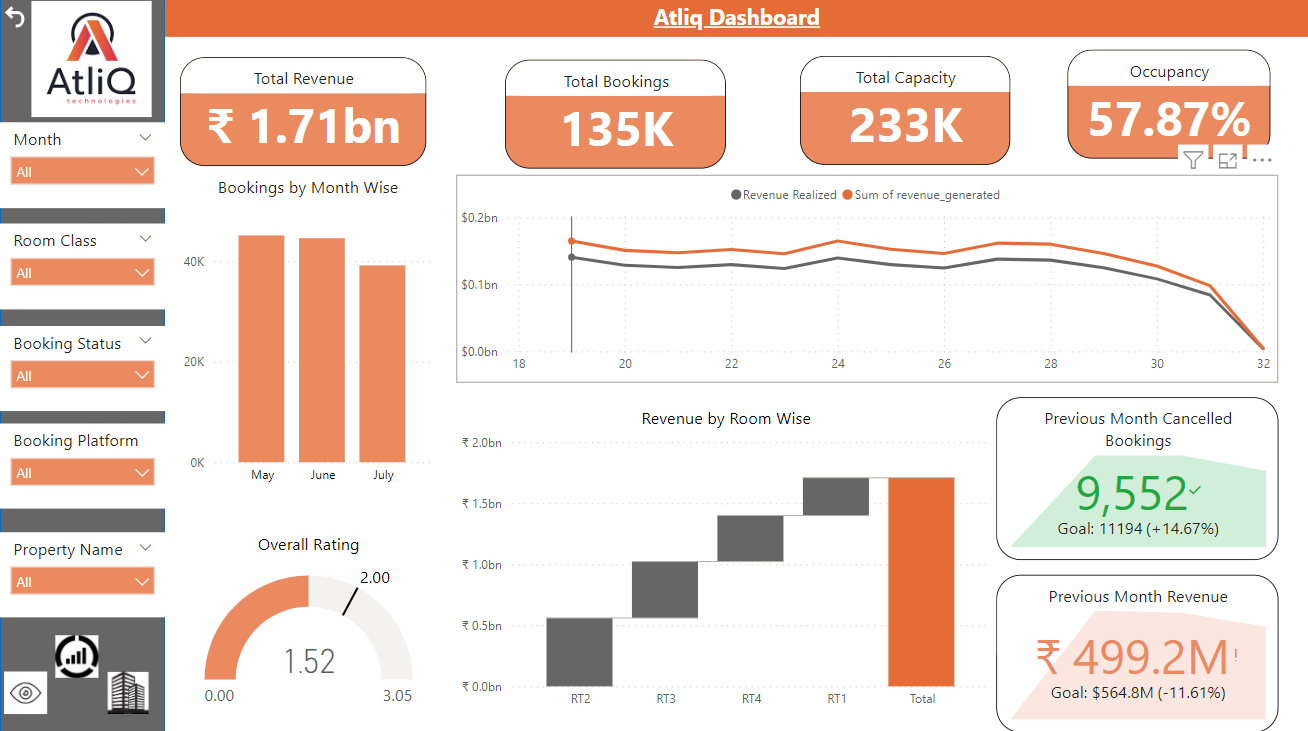

Layout of this report page (visuals, bound fields, positions):
{"tool":"powerbi","page":{"name":"Main Dashboard","canvas":[1280,720],"ordinal":0},"visuals":[{"type":"shape","box":[0,0,161.2,720],"z":0},{"type":"card","title":"Total Revenue","fields":{"Values":["Measures (2).Revenue"]},"box":[176,59.9,240.8,106.3],"z":1000},{"type":"card","title":"Total Bookings","fields":{"Values":["Measures (2).Total Bookings"]},"box":[493.9,62.3,216.4,106.3],"z":2000},{"type":"card","title":"Total Capacity","fields":{"Values":["Measures (2).Total Capacity"]},"box":[782.3,58.7,205.4,106.3],"z":3000},{"type":"card","title":"Occupancy","fields":{"Values":["Measures (2).Occupancy %"]},"box":[1043.9,52.6,198,106.3],"z":4000},{"type":"gauge","title":"Overall Rating","fields":{"Y":["Measures (2).Average Rating"]},"box":[176,524.4,251.8,180.9],"z":5000},{"type":"slicer","fields":{"Values":["dim_date.date.Variation.Date Hierarchy.Month"]},"box":[0,123.8,161.2,83.8],"z":6000},{"type":"kpi","title":"Previous Month Revenue","fields":{"TrendLine":["dim_date.date.Variation.Date Hierarchy.Month"],"Indicator":["Measures (2).Revenue"],"Goal":["Measures (2).RevPremon"]},"box":[974.3,566,276.3,154],"z":7000},{"type":"kpi","title":"Previous Month Cancelled Bookings","fields":{"TrendLine":["dim_date.date.Variation.Date Hierarchy.Month"],"Goal":["Measures (2).BookPremon"],"Indicator":["Measures (2).Total cancelled bookings"]},"box":[974.3,392.4,276.3,158.9],"z":8000},{"type":"columnChart","title":"Bookings by Month Wise","fields":{"Y":["Measures (2).Total Bookings"],"Category":["dim_date.date.Variation.Date Hierarchy.Month"]},"box":[175.4,175.4,252.8,311.3],"z":9000},{"type":"slicer","fields":{"Values":["rooms.room_class"]},"box":[0,222.5,161.4,84.3],"z":10000},{"type":"slicer","fields":{"Values":["fact_bookings.booking_status"]},"box":[0,322.7,161.4,83.1],"z":11000},{"type":"slicer","fields":{"Values":["fact_bookings.booking_platform"]},"box":[0,418.1,161.4,83.1],"z":12000},{"type":"slicer","fields":{"Values":["hotels.property_name"]},"box":[0,524.4,161.4,83.1],"z":13000},{"type":"lineChart","title":"Week Wise Revenue","fields":{"Category":["dim_date.Wn"],"Y":["Sum(fact_bookings.revenue_realized)","Sum(fact_bookings.revenue_generated)"]},"box":[446.2,174.8,804.3,202.9],"z":14000},{"type":"waterfallChart","title":"Revenue by Room Wise","fields":{"Category":["rooms.room_id"],"Y":["Measures (2).Revenue"]},"box":[446.2,401,528.1,304.4],"z":15000},{"type":"image","box":[17.1,0,144.2,123.5],"z":16000},{"type":"actionButton","box":[0,0,29.3,40.3],"z":17000},{"type":"textbox","title":"efew","box":[161.4,0,1118.5,40.3],"z":18000},{"type":"actionButton","box":[100.2,643,50.1,77],"z":19000},{"type":"actionButton","box":[0,643,50.1,77],"z":20000},{"type":"actionButton","box":[50.1,607.5,50.1,77],"z":21000}]}

Visuals, with their boxes in screenshot pixels (x1, y1, x2, y2), scaled from the page's 1280x720 canvas onto the 1308x731 screenshot:
shape: {"left": 0, "top": 0, "right": 165, "bottom": 730}
"Total Revenue" card: {"left": 180, "top": 61, "right": 426, "bottom": 169}
"Total Bookings" card: {"left": 505, "top": 63, "right": 726, "bottom": 171}
"Total Capacity" card: {"left": 799, "top": 60, "right": 1009, "bottom": 168}
"Occupancy" card: {"left": 1067, "top": 53, "right": 1269, "bottom": 161}
"Overall Rating" gauge: {"left": 180, "top": 532, "right": 437, "bottom": 716}
slicer - dim_date.date.Variation.Date Hierarchy.Month: {"left": 0, "top": 126, "right": 165, "bottom": 211}
"Previous Month Revenue" kpi: {"left": 996, "top": 575, "right": 1278, "bottom": 730}
"Previous Month Cancelled Bookings" kpi: {"left": 996, "top": 398, "right": 1278, "bottom": 560}
"Bookings by Month Wise" columnChart: {"left": 179, "top": 178, "right": 438, "bottom": 494}
slicer - rooms.room_class: {"left": 0, "top": 226, "right": 165, "bottom": 311}
slicer - fact_bookings.booking_status: {"left": 0, "top": 328, "right": 165, "bottom": 412}
slicer - fact_bookings.booking_platform: {"left": 0, "top": 424, "right": 165, "bottom": 509}
slicer - hotels.property_name: {"left": 0, "top": 532, "right": 165, "bottom": 617}
"Week Wise Revenue" lineChart: {"left": 456, "top": 177, "right": 1278, "bottom": 383}
"Revenue by Room Wise" waterfallChart: {"left": 456, "top": 407, "right": 996, "bottom": 716}
image: {"left": 17, "top": 0, "right": 165, "bottom": 125}
actionButton: {"left": 0, "top": 0, "right": 30, "bottom": 41}
"efew" textbox: {"left": 165, "top": 0, "right": 1307, "bottom": 41}
actionButton: {"left": 102, "top": 653, "right": 154, "bottom": 730}
actionButton: {"left": 0, "top": 653, "right": 51, "bottom": 730}
actionButton: {"left": 51, "top": 617, "right": 102, "bottom": 695}
